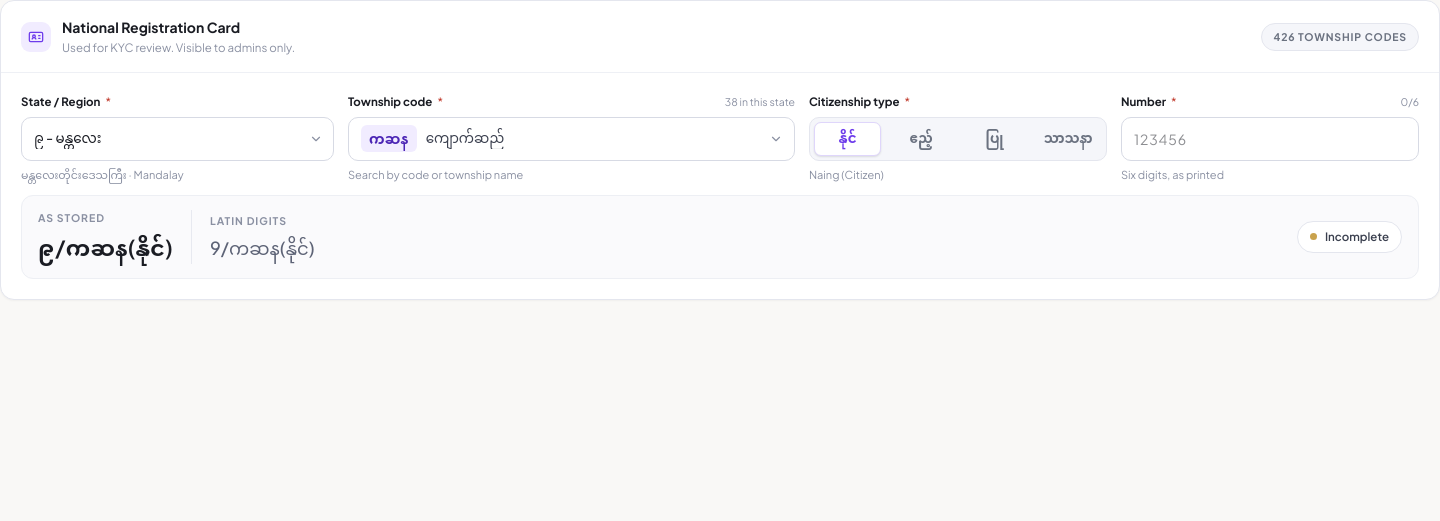
it: NrcField › filters the township list by a search query matching code or name
The image size is (1440, 521).
Click the button "ကဆန ကျောက်ဆည်": (389, 138) [348, 116, 795, 160]
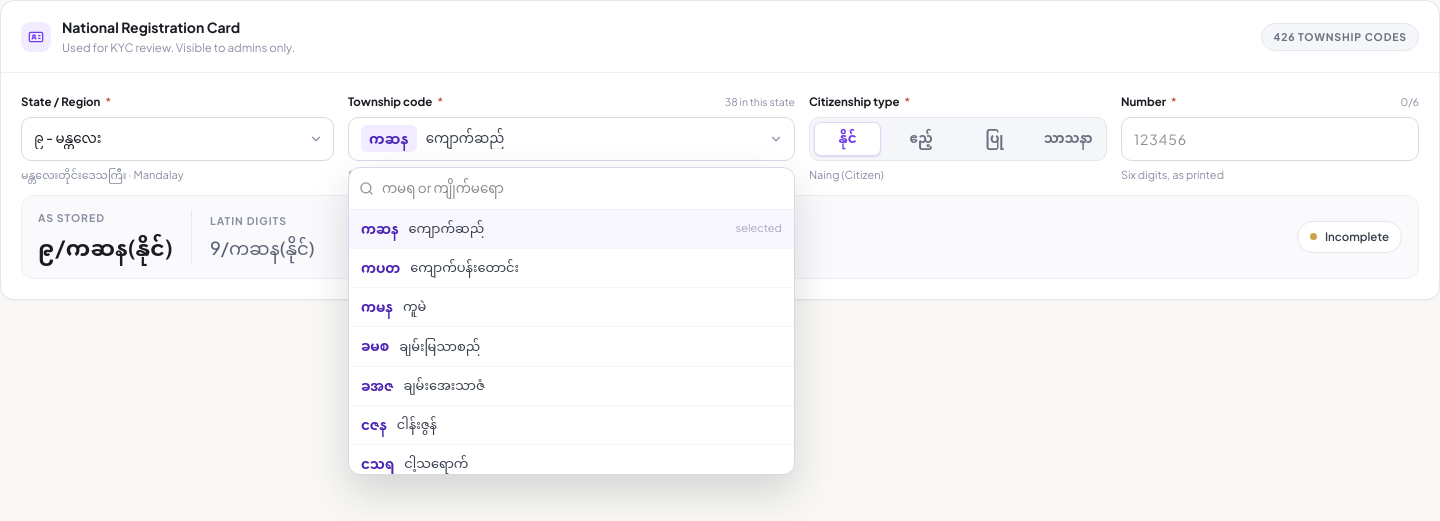
In the field with placeholder "ကမရ or ကျိုက်မရော": (583, 188) [382, 178, 784, 199], type "ZZZNOPE"
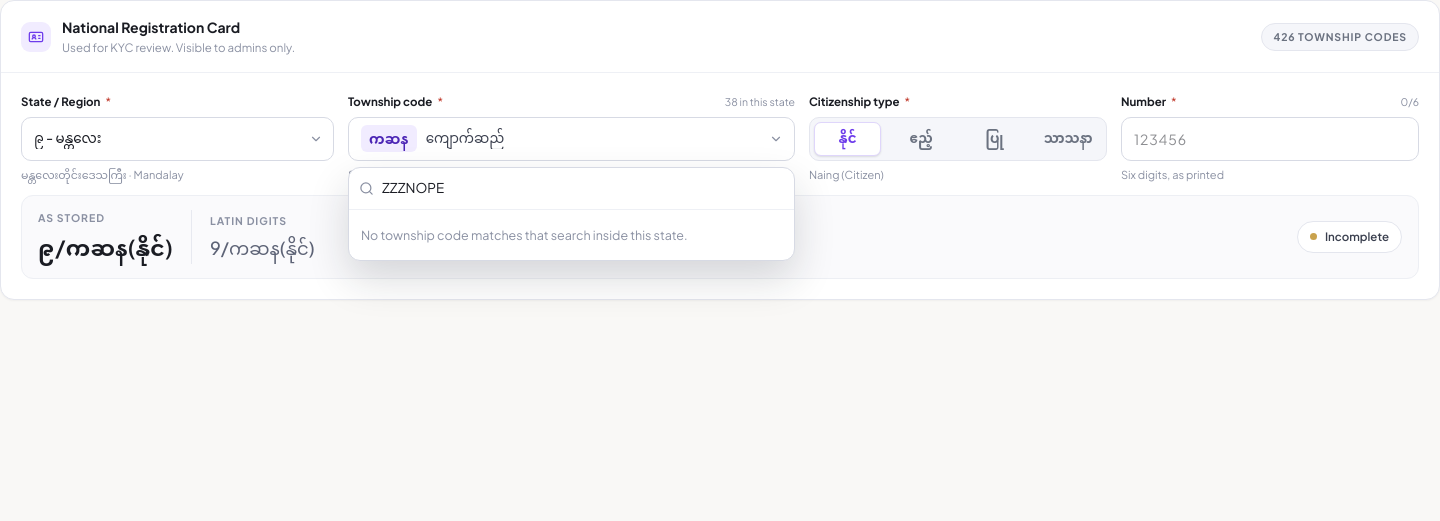
Now the text "No township code matches that search inside this state." is shown, box [361, 226, 688, 242]
